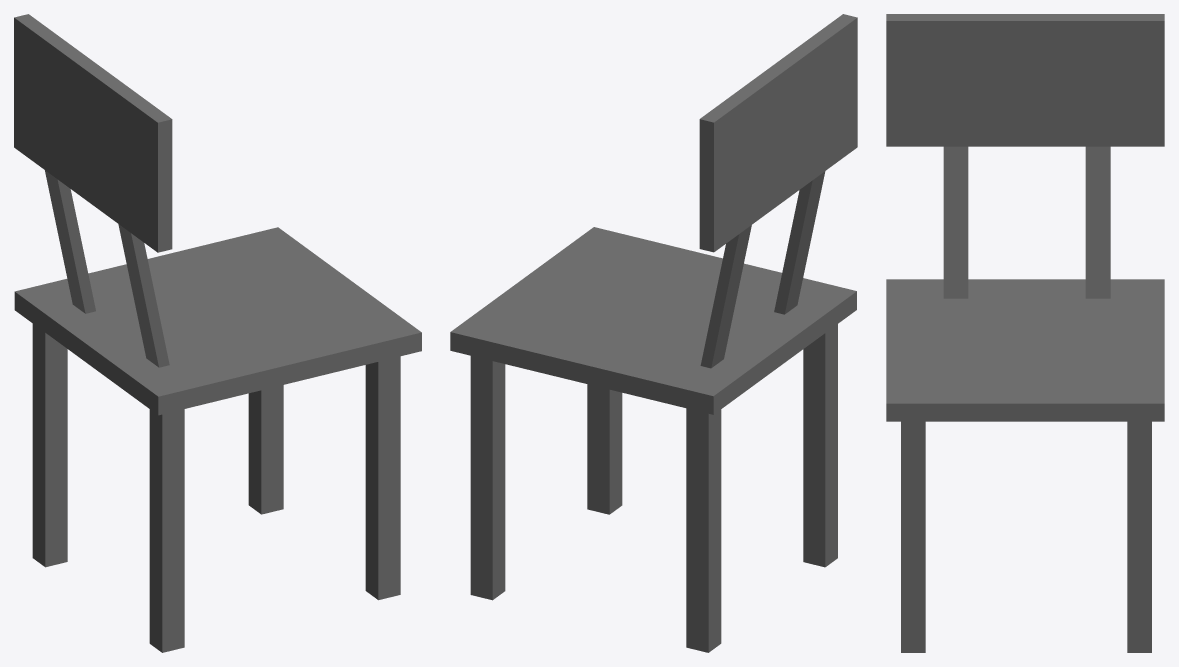
File: chair.fbx
The picture shows the model from 3 angles, left to right: view 1: azimuth 30°, elevation 25°; view 2: azimuth 150°, elevation 25°; view 3: azimuth 270°, elevation 25°; orthographic projection. The views are drawn at different scales.
Parts seen in each view (by area): view 1: polySurface19; view 2: polySurface19; view 3: polySurface19.
Boxes of the visible parts, box(x1,y1,x2,y2) form: polySurface19: box(14, 14, 421, 652); polySurface19: box(450, 14, 857, 652); polySurface19: box(886, 14, 1164, 652).
Size of the model in its own units: 0.3992 by 0.7784 by 0.3766.
